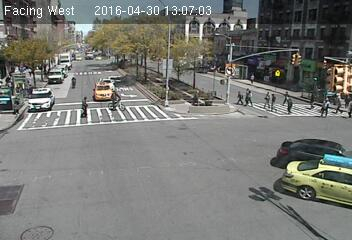neg: (157, 161, 202, 221), (1, 165, 44, 223), (203, 133, 242, 186), (262, 159, 300, 210), (114, 146, 152, 196), (4, 5, 41, 55), (185, 2, 216, 42), (63, 127, 93, 168), (226, 7, 255, 46), (15, 90, 40, 123), (139, 7, 162, 39), (147, 94, 170, 125), (284, 10, 305, 38), (112, 62, 131, 88), (279, 46, 295, 68), (210, 52, 226, 73), (279, 122, 294, 142), (332, 61, 347, 80), (172, 57, 186, 76), (72, 39, 86, 57), (89, 24, 103, 42), (109, 17, 123, 35), (79, 65, 89, 78), (93, 6, 102, 18)
pos: (188, 86, 209, 114), (315, 95, 335, 121), (75, 96, 92, 119), (241, 85, 258, 108), (279, 85, 296, 107), (233, 87, 249, 108), (266, 93, 281, 113), (332, 95, 347, 115), (282, 94, 296, 113), (304, 92, 318, 110), (262, 90, 275, 109), (249, 72, 258, 83)
